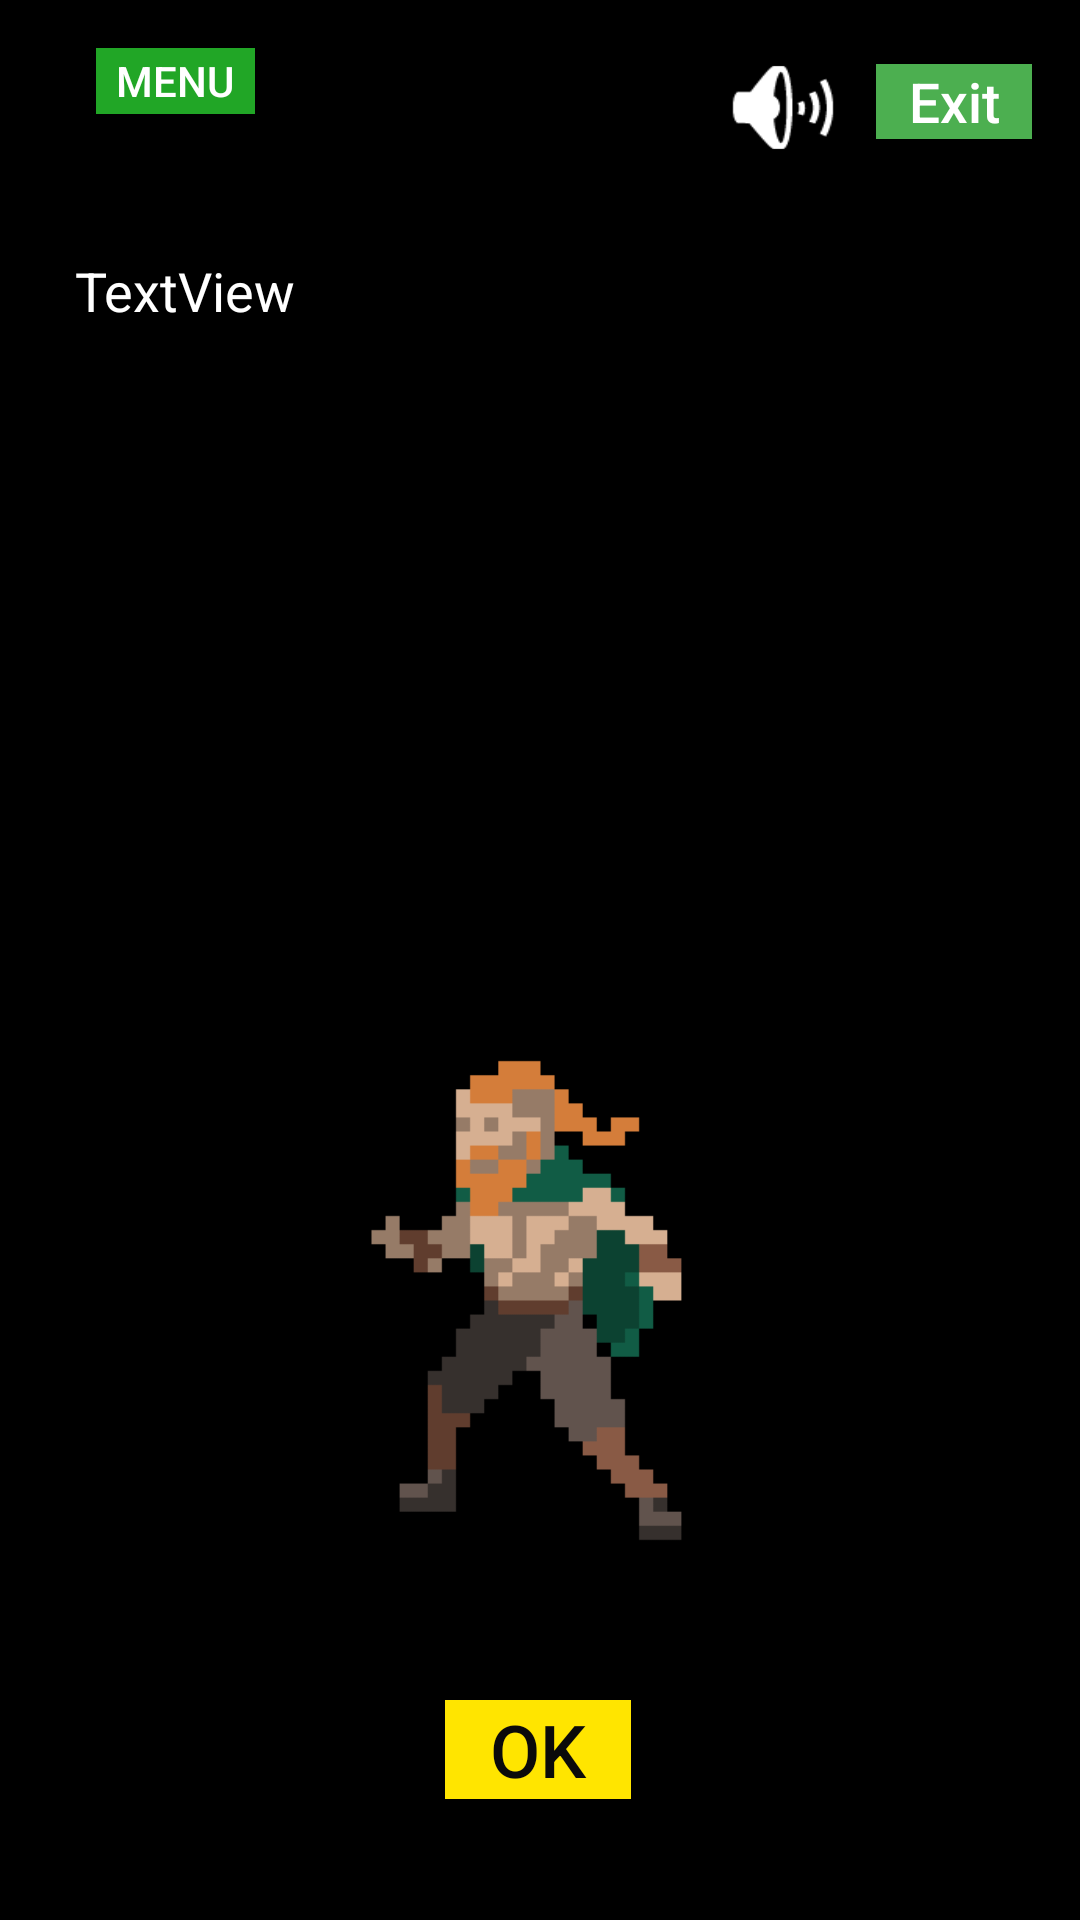

Icons on this 1080x1920 Android screen, each with its box as (x1, y1, x2, y2):
lock silent mode off: (732, 66, 834, 149)
